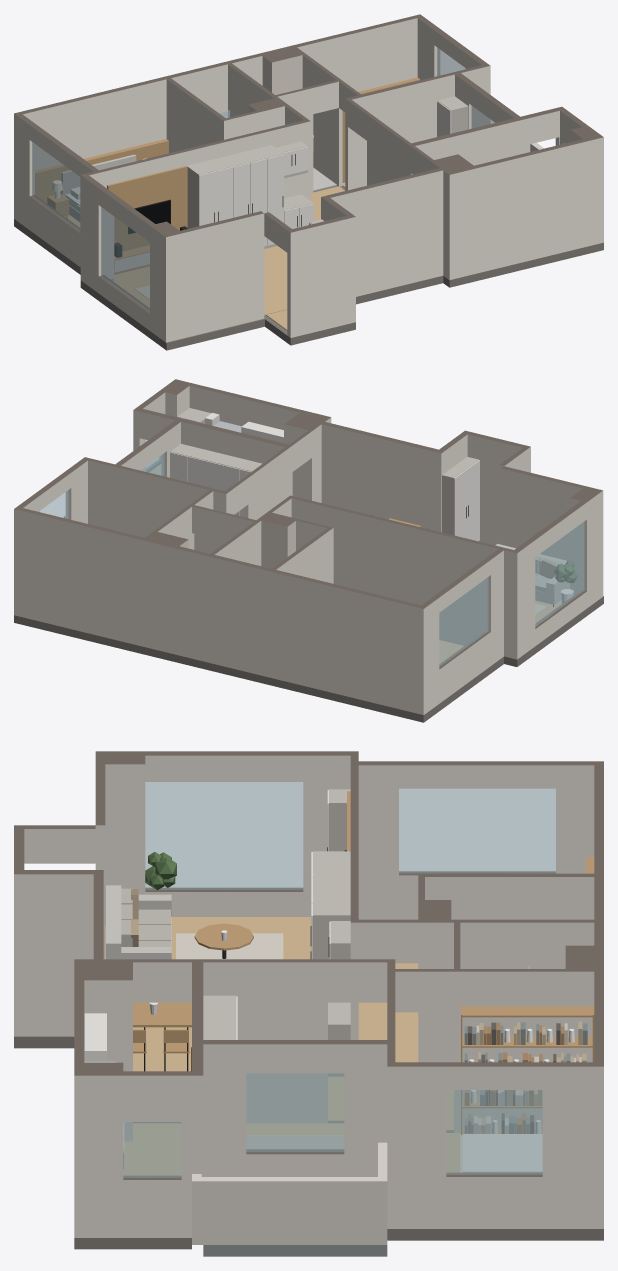
Rendered from plan2-sketchup.dae.
3 views of the same model, one above another, from view 1: azimuth 30°, elevation 25°; view 2: azimuth 150°, elevation 25°; view 3: azimuth 270°, elevation 25° (orthographic). The views are drawn at different scales.
Parts seen in each view (by area): view 1: 牆體與柱, 家具-27 收納餐櫃（高櫃）, 樓板, 家具-19 電視壁面造型（美耐板）, 家具-01 床頭封板, 地板-客廳, 家具-16 收納高櫃, 地板-餐廳, 家具-02 QUEEN SIZE 雙人床, 家具-28 收納餐櫃（下櫃）, 家具-29 收納餐櫃（上櫃）, 家具-20 電視矮櫃 (+3 smaller); view 2: 牆體與柱, 樓板, 家具-36 鞋櫃, 家具-18 拉門衣櫃, 家具-25 三人沙發, 家具-37 廚具, 家具-26 盆栽; view 3: 牆體與柱, 陽台, 家具-15 半開放書櫃, 樓板, 家具-25 三人沙發, 家具-27 收納餐櫃（高櫃）, 家具-14 標準雙人床, 地板-廚房, 地板-客廳, 地板-主臥, 地板-餐廳, 家具-23 地毯 (+11 smaller).
Boxes of the visible parts, bbox=[...] form: 牆體與柱: bbox=[14, 14, 603, 342]; 家具-27 收納餐櫃（高櫃）: bbox=[187, 145, 284, 248]; 樓板: bbox=[14, 185, 603, 350]; 家具-19 電視壁面造型（美耐板）: bbox=[107, 166, 187, 274]; 家具-01 床頭封板: bbox=[35, 139, 168, 202]; 地板-客廳: bbox=[113, 266, 287, 315]; 家具-16 收納高櫃: bbox=[437, 96, 468, 136]; 地板-餐廳: bbox=[264, 246, 287, 299]; 家具-02 QUEEN SIZE 雙人床: bbox=[61, 154, 136, 221]; 家具-28 收納餐櫃（下櫃）: bbox=[284, 194, 313, 228]; 家具-29 收納餐櫃（上櫃）: bbox=[276, 141, 308, 178]; 家具-20 電視矮櫃: bbox=[114, 226, 188, 272]; 牆體與柱: bbox=[14, 379, 603, 714]; 樓板: bbox=[14, 596, 603, 722]; 家具-36 鞋櫃: bbox=[442, 456, 479, 541]; 家具-18 拉門衣櫃: bbox=[170, 444, 262, 517]; 家具-25 三人沙發: bbox=[495, 544, 569, 606]; 家具-37 廚具: bbox=[205, 413, 283, 442]; 家具-26 盆栽: bbox=[554, 561, 577, 603]; 牆體與柱: bbox=[14, 751, 603, 1237]; 陽台: bbox=[192, 1142, 387, 1256]; 家具-15 半開放書櫃: bbox=[461, 1005, 594, 1134]; 樓板: bbox=[14, 1036, 603, 1249]; 家具-25 三人沙發: bbox=[106, 885, 171, 959]; 家具-27 收納餐櫃（高櫃）: bbox=[310, 851, 350, 959]; 家具-14 標準雙人床: bbox=[460, 1134, 542, 1172]; 地板-廚房: bbox=[123, 1123, 181, 1175]; 地板-客廳: bbox=[105, 917, 311, 959]; 地板-主臥: bbox=[358, 963, 418, 1062]; 地板-餐廳: bbox=[133, 1027, 343, 1121]; 家具-23 地毯: bbox=[176, 933, 283, 959].
Bounding box in the file's own units: 12.26 × 9.23 × 3.
